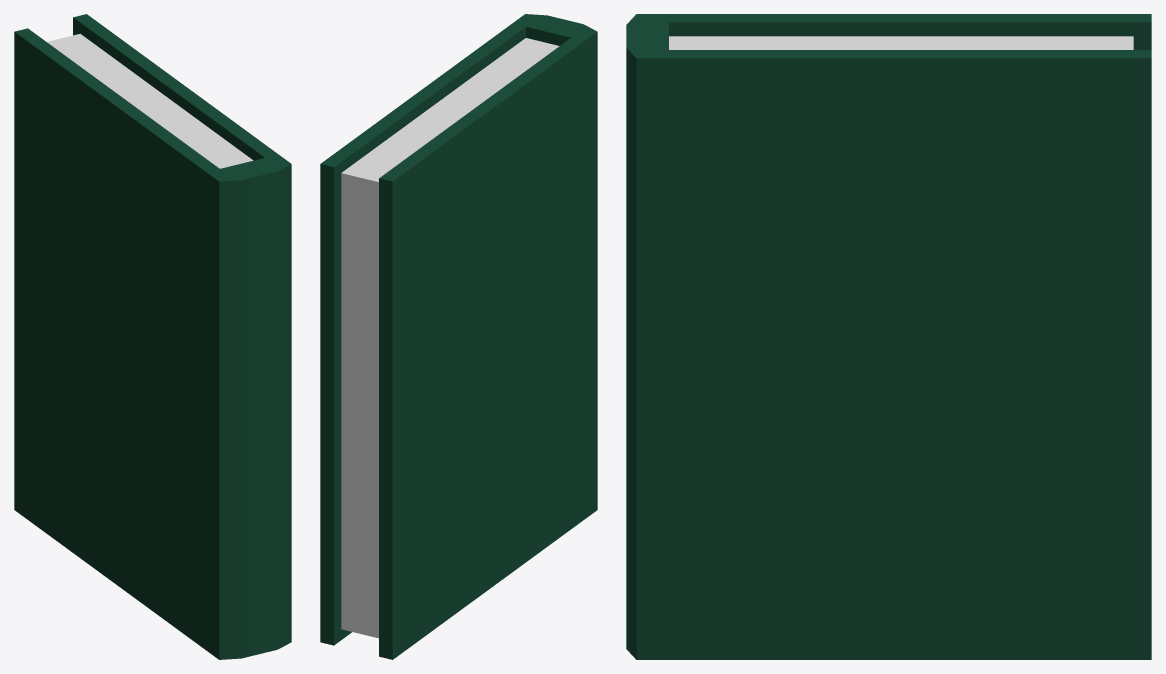
File: book1.fbx
3 renders of one model, left to right at view 1: azimuth 30°, elevation 25°; view 2: azimuth 150°, elevation 25°; view 3: azimuth 270°, elevation 25°, orthographic. The views are drawn at different scales.
Parts seen in each view (by area): view 1: book1; view 2: book1; view 3: book1.
Part boxes in pixels (box(x1,y1,x2,y2)): book1: box(14, 14, 291, 659); book1: box(320, 14, 597, 659); book1: box(626, 14, 1151, 659).
Size of the model in its own units: 5.71 by 36.05 by 28.55.
